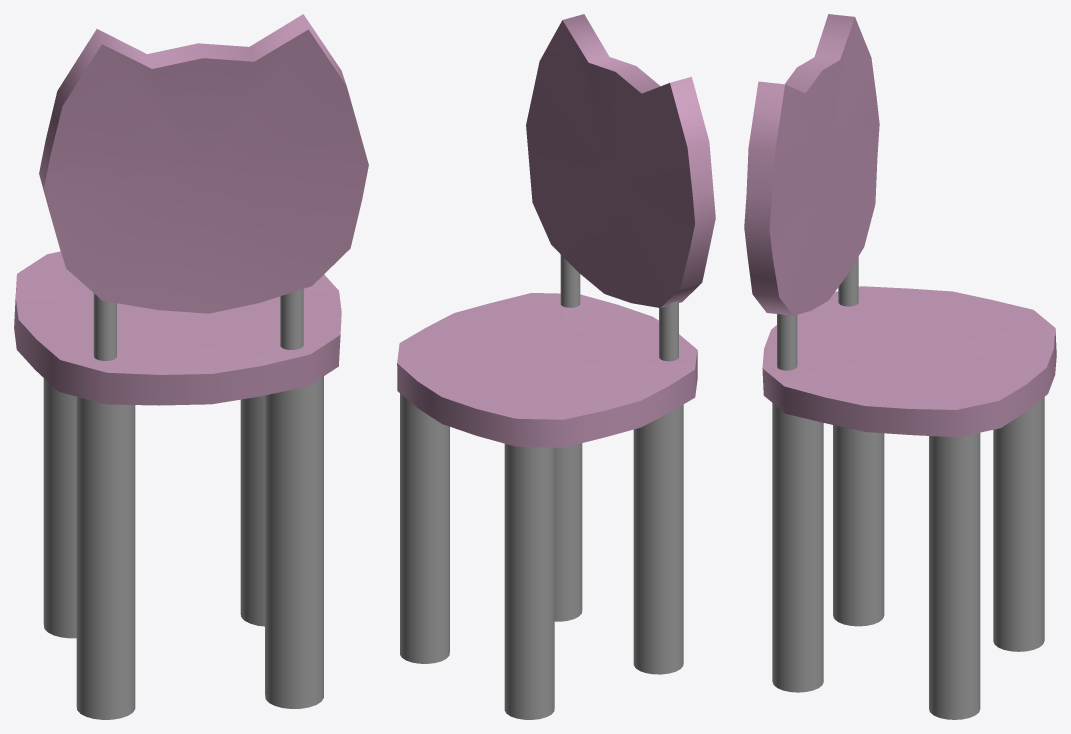
Rendered from Chair.fbx.
The picture shows the model from 3 angles, left to right: view 1: azimuth 30°, elevation 25°; view 2: azimuth 150°, elevation 25°; view 3: azimuth 270°, elevation 25°; orthographic projection. The views are drawn at different scales.
Visible parts, largest first — view 1: pCylinder5; view 2: pCylinder5; view 3: pCylinder5.
Boxes of the visible parts, x1,y1,x2,y2 form: pCylinder5: (14,14,368,719); pCylinder5: (397,14,715,719); pCylinder5: (744,14,1056,719).
Bounding box in the file's own units: 0.6104 × 1.29 × 0.6087.
